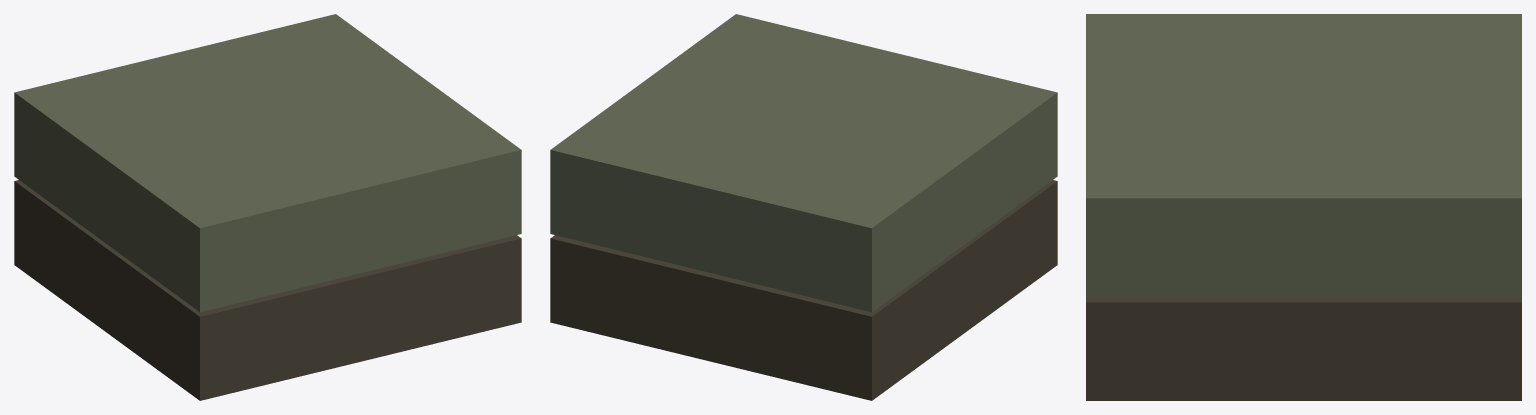
File: Grass block.fbx
3 renders of one model, left to right at view 1: azimuth 30°, elevation 25°; view 2: azimuth 150°, elevation 25°; view 3: azimuth 270°, elevation 25°, orthographic. The views are drawn at different scales.
Parts seen in each view (by area): view 1: pCube548; view 2: pCube548; view 3: pCube548.
Part boxes in pixels (x1,y1,x2,y2): pCube548: [14, 14, 521, 400]; pCube548: [550, 14, 1057, 400]; pCube548: [1086, 14, 1521, 400].
Size of the model in its own units: 56.97 by 29.24 by 56.97.
